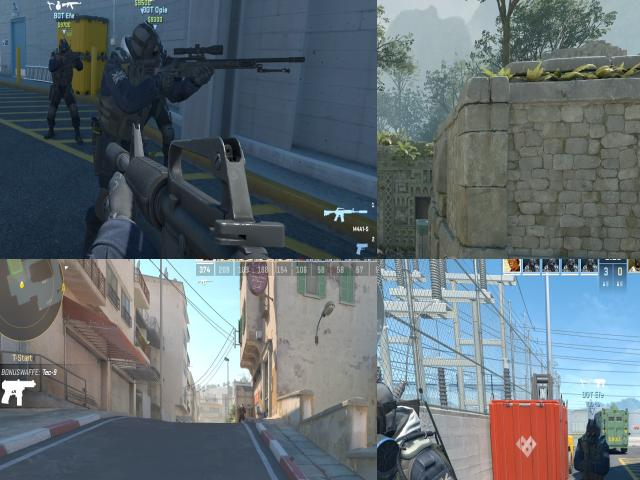CT: (104, 22, 155, 227), (377, 373, 474, 480), (146, 27, 174, 161), (52, 39, 76, 139), (578, 411, 610, 480), (240, 403, 246, 422)
CT-Head: (377, 379, 394, 458), (127, 24, 153, 63), (585, 420, 600, 442), (155, 35, 166, 54), (58, 40, 69, 54), (377, 243, 385, 259), (241, 404, 244, 407)
